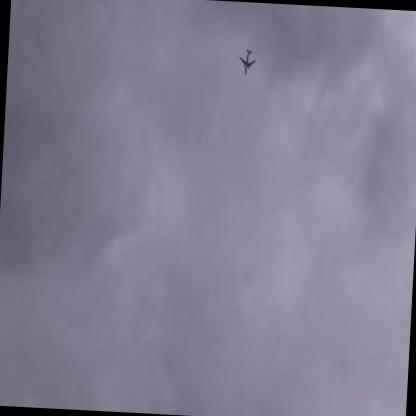plane: (235, 46, 259, 77)
